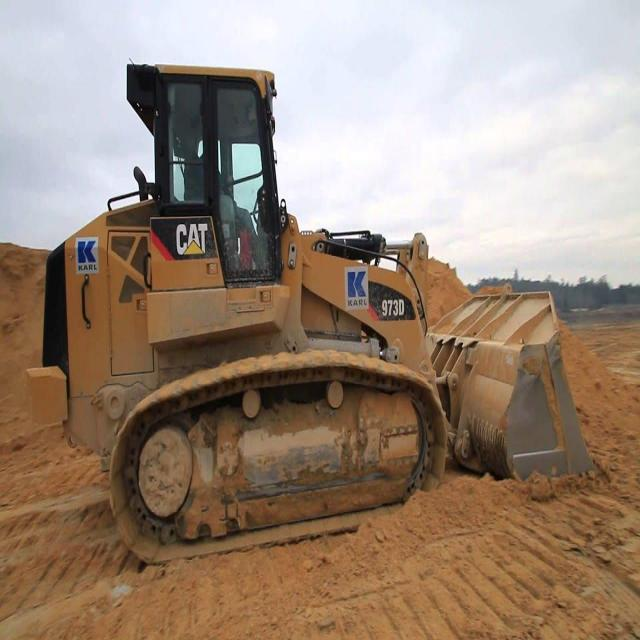Bulldozer: (37, 33, 606, 568)
